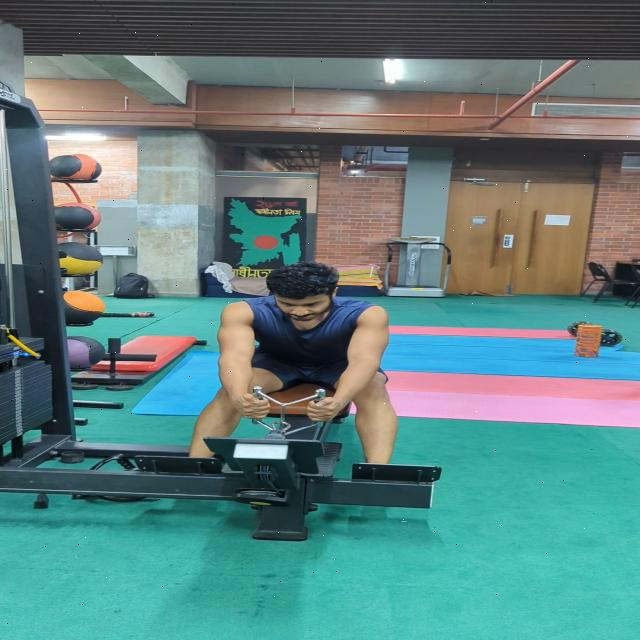Normal_RowingMachineExercise: (179, 258, 416, 482)
